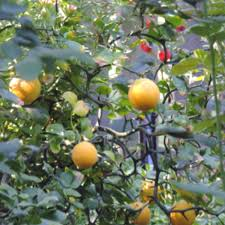orange: (9, 71, 42, 106), (128, 78, 160, 112), (69, 140, 99, 170), (170, 198, 200, 225)
